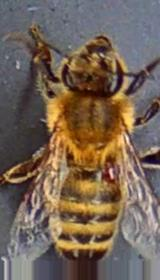varroa_mite: (94, 155, 126, 184)
